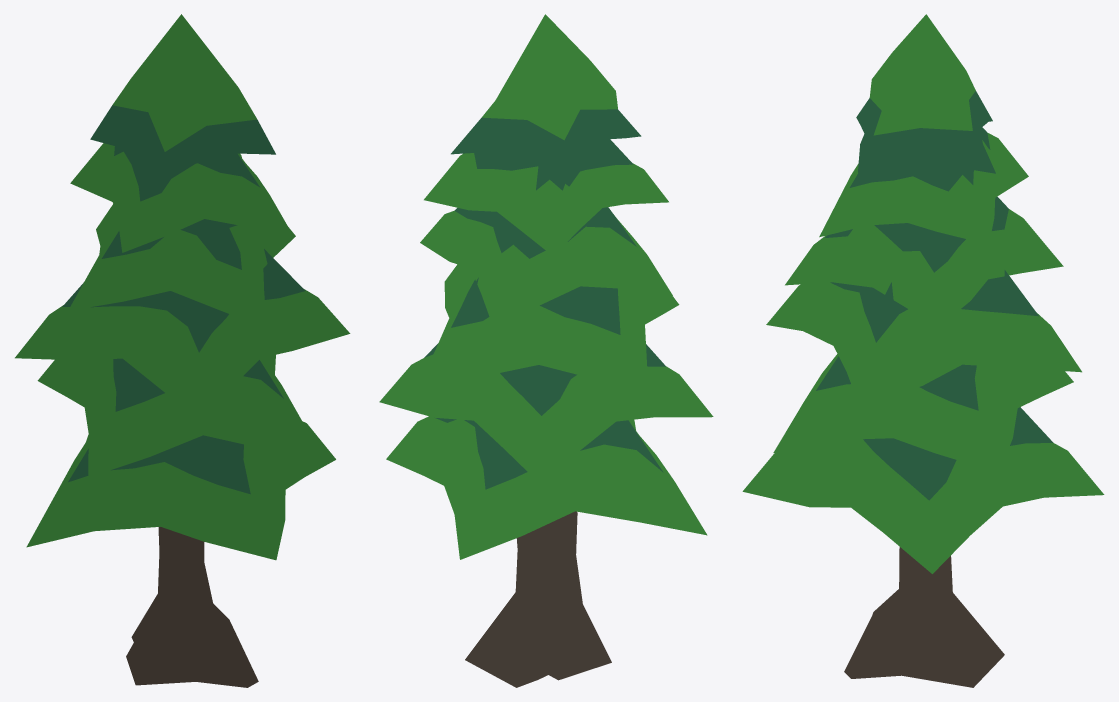
The model's file is pine_tall_decorated_01.dae.
3 views of the same model, side by side, from view 1: azimuth 30°, elevation 25°; view 2: azimuth 150°, elevation 25°; view 3: azimuth 270°, elevation 25° (orthographic).
Parts seen in each view (by area): view 1: pine_tall_decorated_01_bulbs-0, pine_tall_decorated_01-0; view 2: pine_tall_decorated_01_bulbs-0, pine_tall_decorated_01-0; view 3: pine_tall_decorated_01_bulbs-0, pine_tall_decorated_01-0.
Boxes of the visible parts, x1,y1,x2,y2 form: pine_tall_decorated_01_bulbs-0: [15, 14, 350, 560]; pine_tall_decorated_01-0: [126, 527, 258, 687]; pine_tall_decorated_01_bulbs-0: [379, 14, 713, 559]; pine_tall_decorated_01-0: [465, 511, 611, 687]; pine_tall_decorated_01_bulbs-0: [742, 14, 1104, 573]; pine_tall_decorated_01-0: [844, 547, 1004, 687].
Size of the model in its own units: 6.17 by 12.06 by 6.13.
